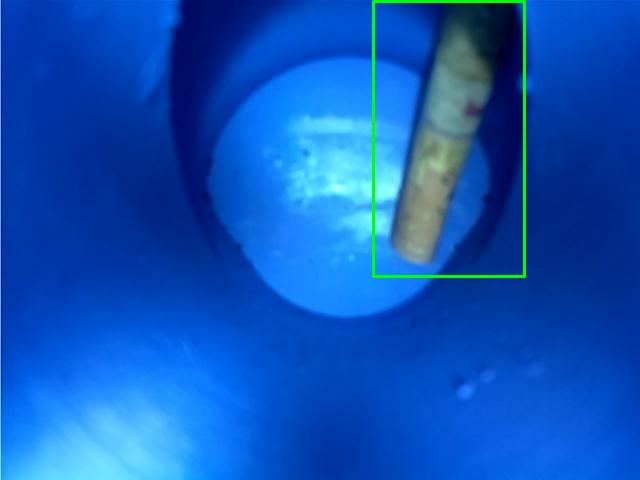megot: (373, 1, 524, 276)
